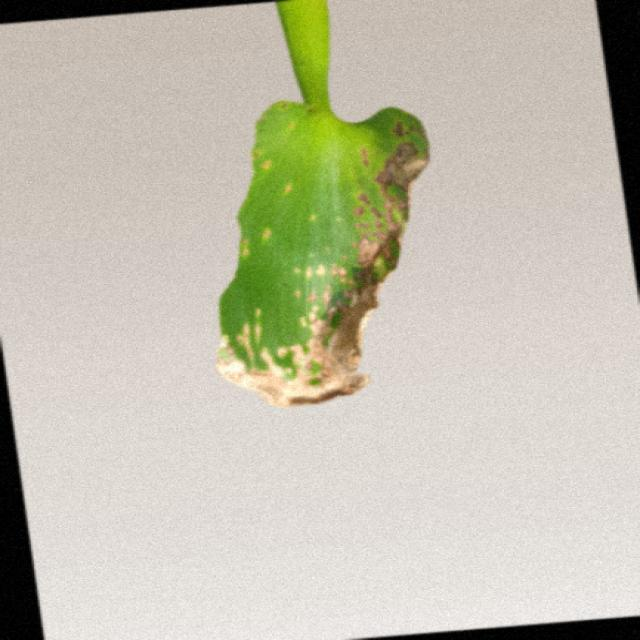daun berpenyakit bercak: (218, 0, 428, 406)
